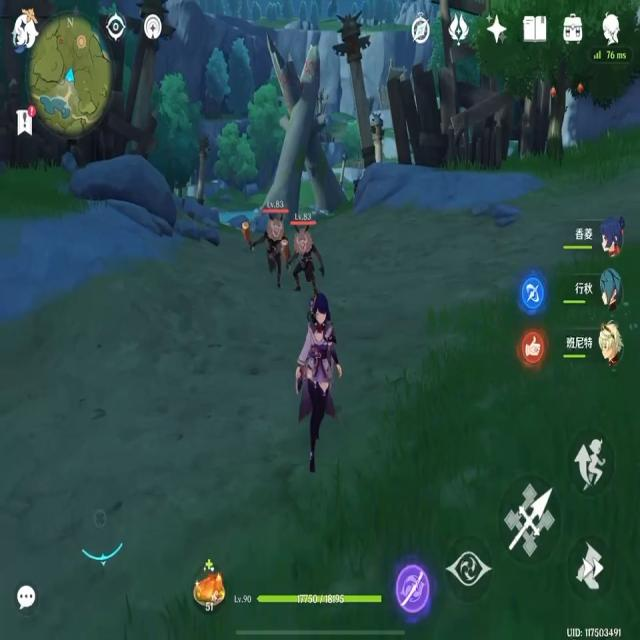genshin-hilichurls: (255, 217, 284, 290), (293, 224, 321, 296)
